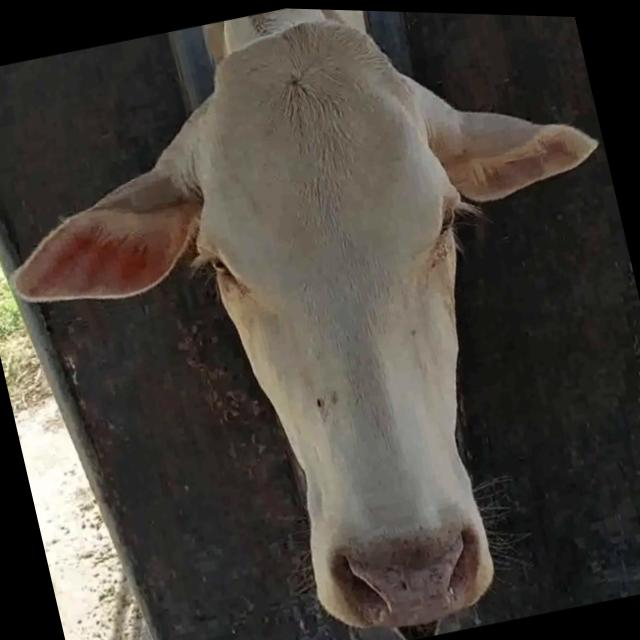cowFace: (154, 4, 541, 640)
